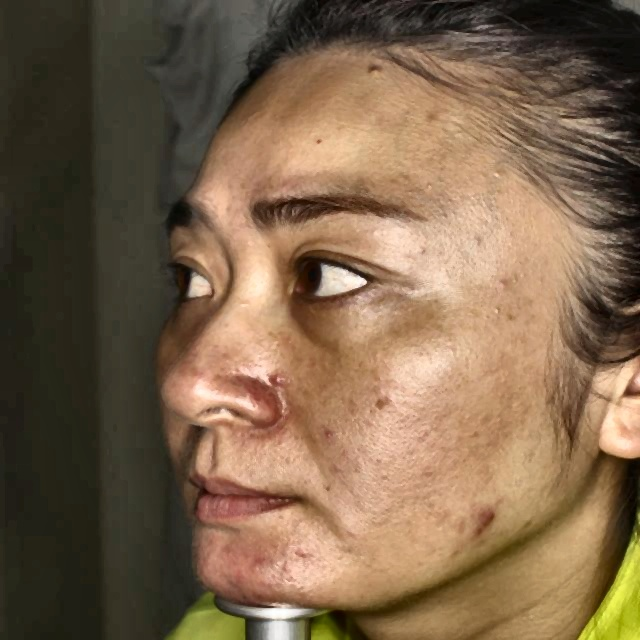pustule: (223, 557, 262, 586), (468, 505, 502, 533), (262, 370, 292, 390), (250, 549, 274, 570)
